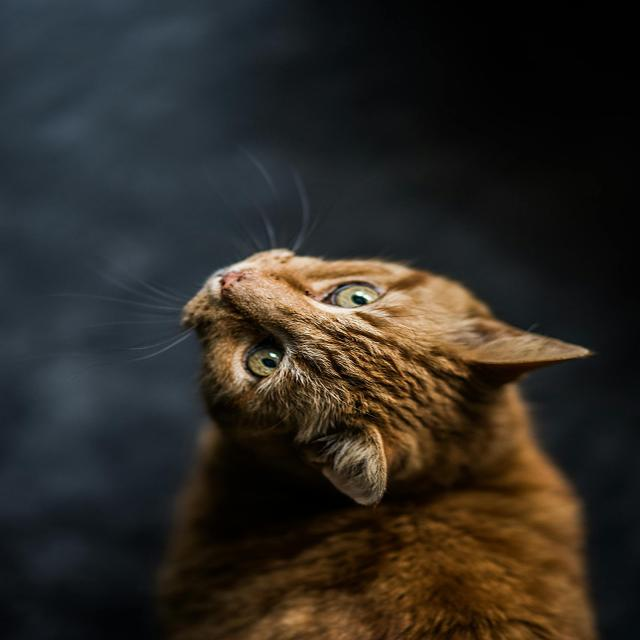Cat: (60, 146, 601, 638)
